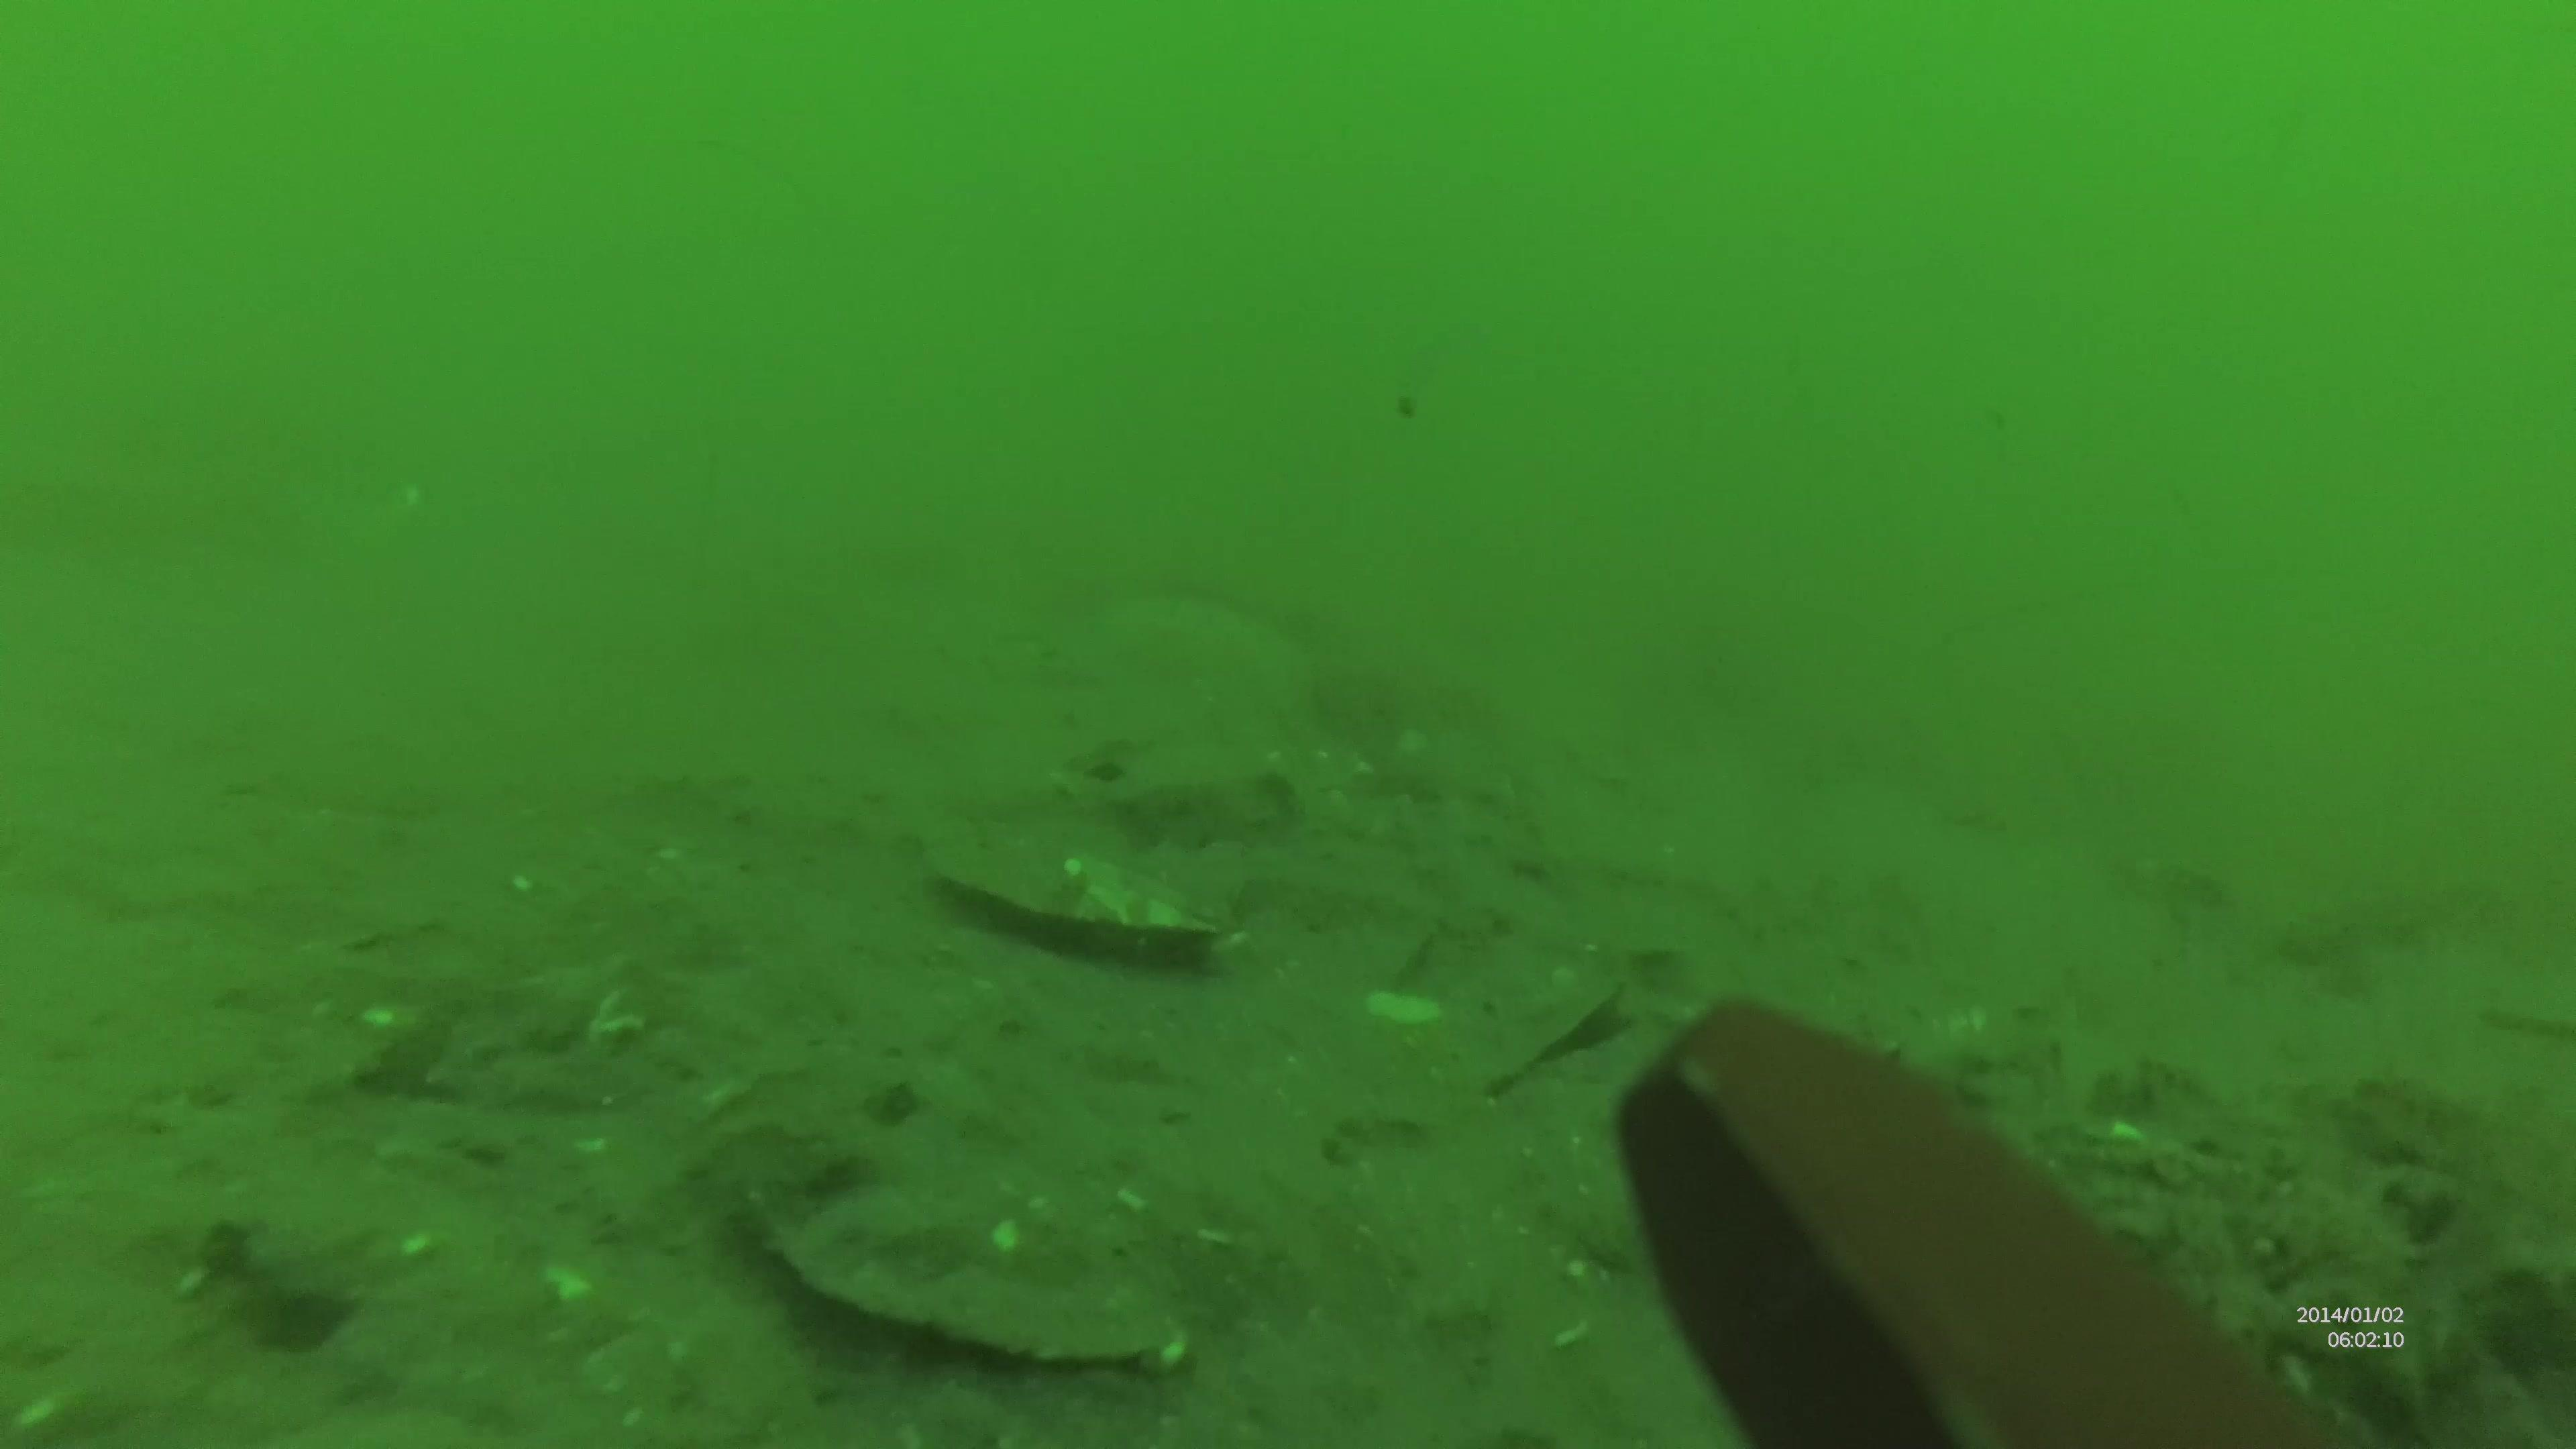scallop: (748, 1177, 1180, 1375), (948, 830, 1235, 966)
